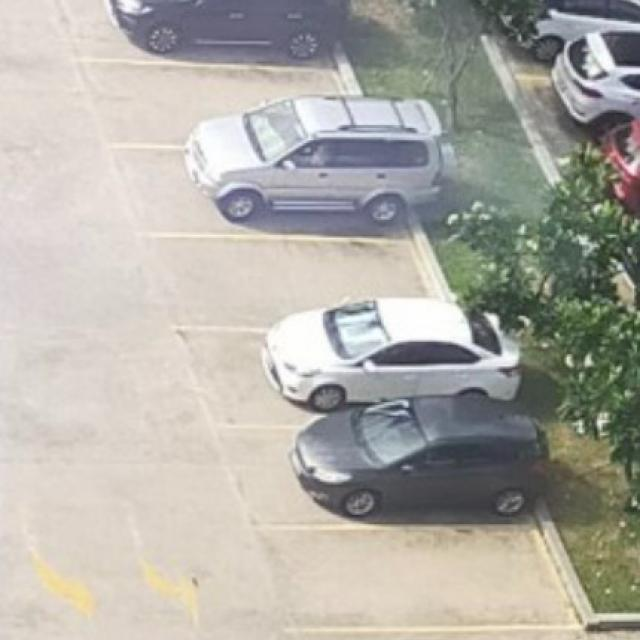car: (185, 96, 454, 224), (291, 396, 547, 517), (263, 298, 521, 410)
freeslot: (235, 517, 591, 636), (123, 223, 453, 338), (66, 50, 380, 154)
